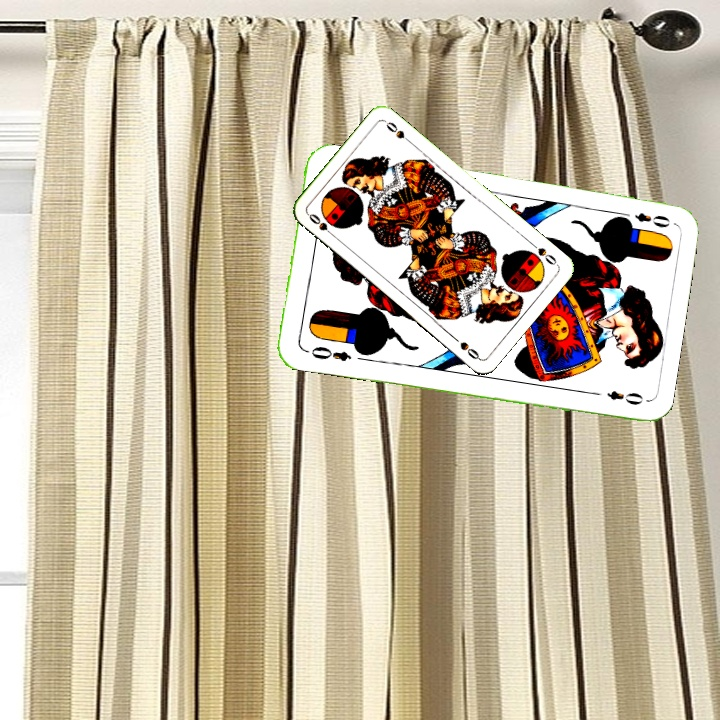EO: (615, 208, 672, 230), (301, 342, 354, 364)
SO: (304, 209, 338, 240), (526, 238, 560, 268)
